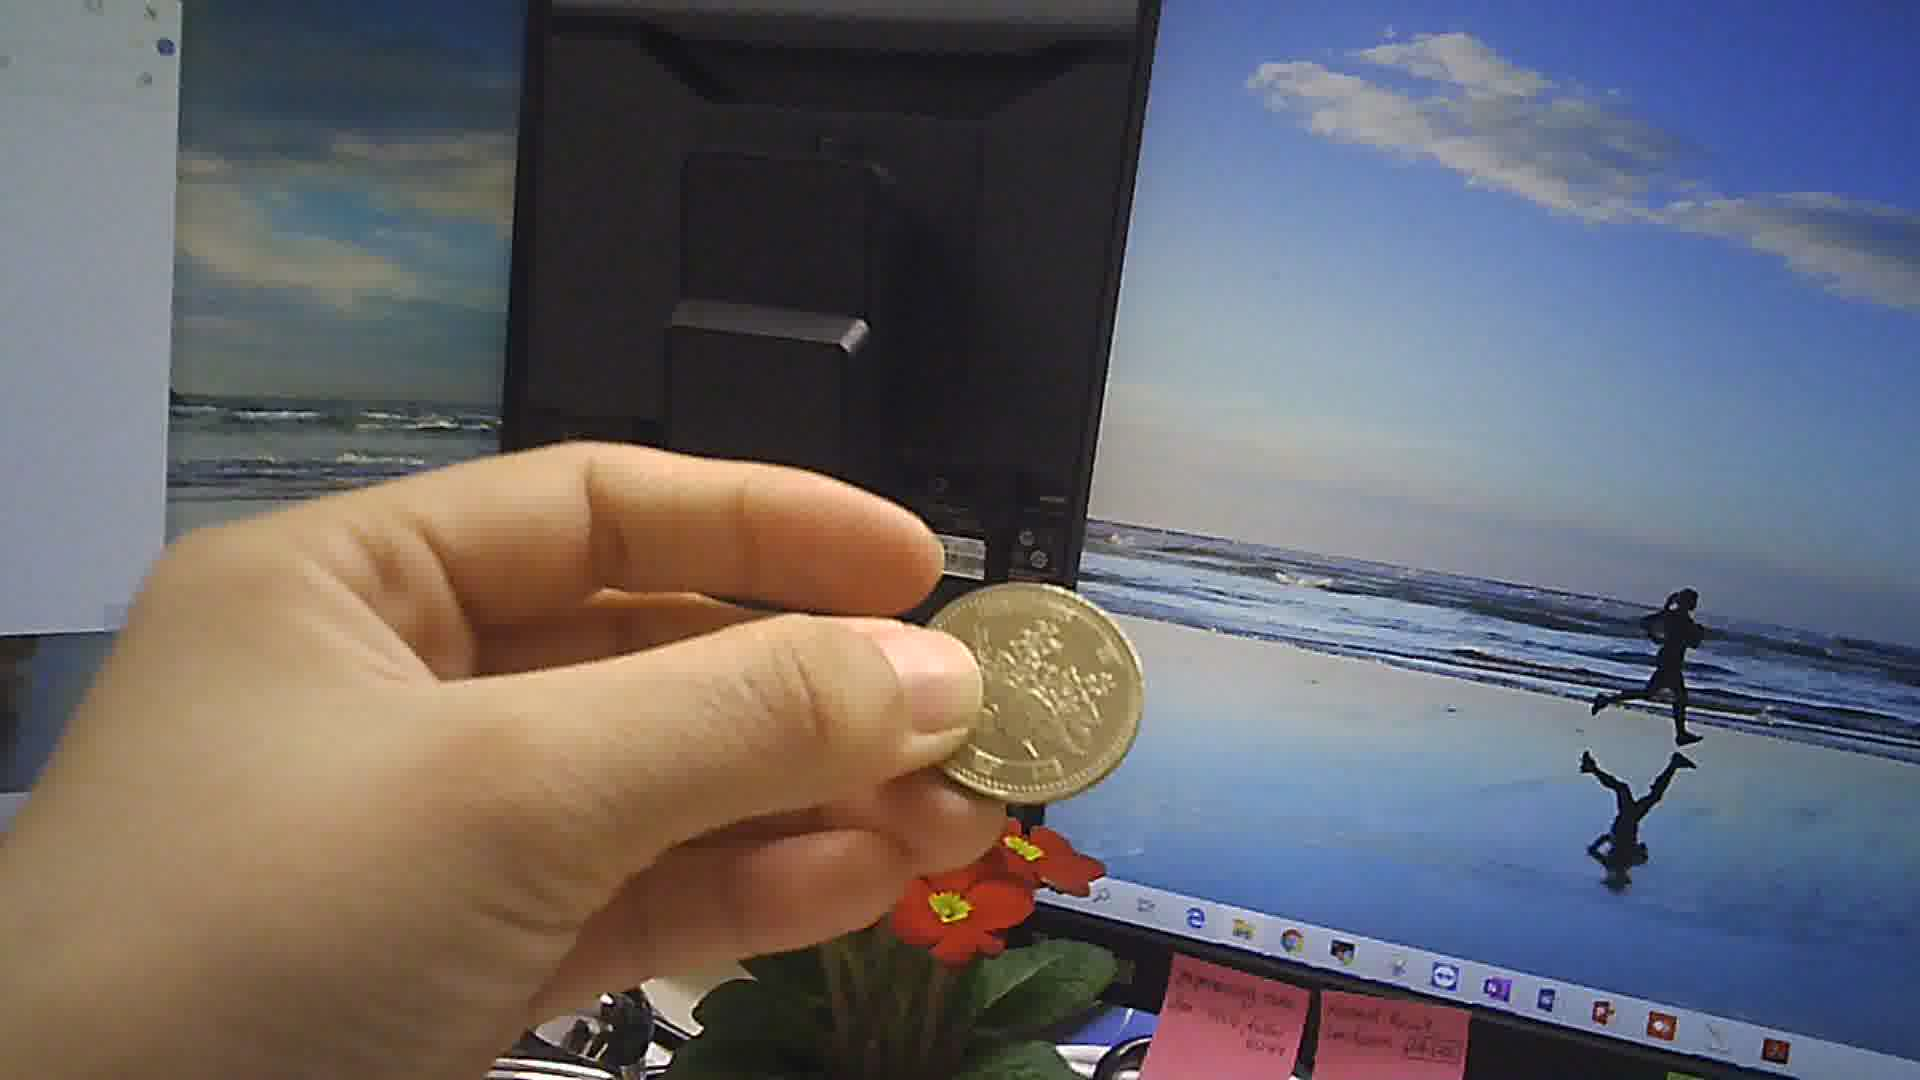500 Yen: (915, 570, 1151, 806)
